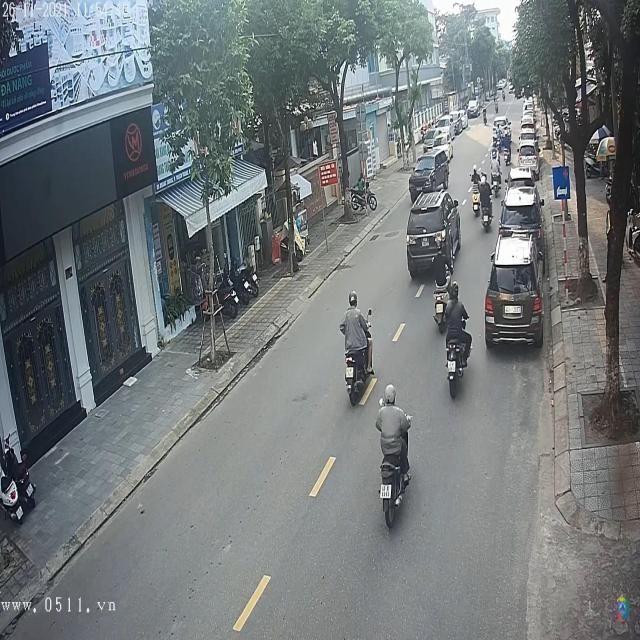car: (485, 251, 544, 348), (406, 190, 463, 281), (499, 184, 543, 238), (409, 153, 451, 196), (424, 127, 452, 154), (517, 145, 538, 171), (468, 100, 481, 116)
motorcycle: (377, 442, 411, 534), (346, 343, 378, 407), (445, 331, 473, 394)
